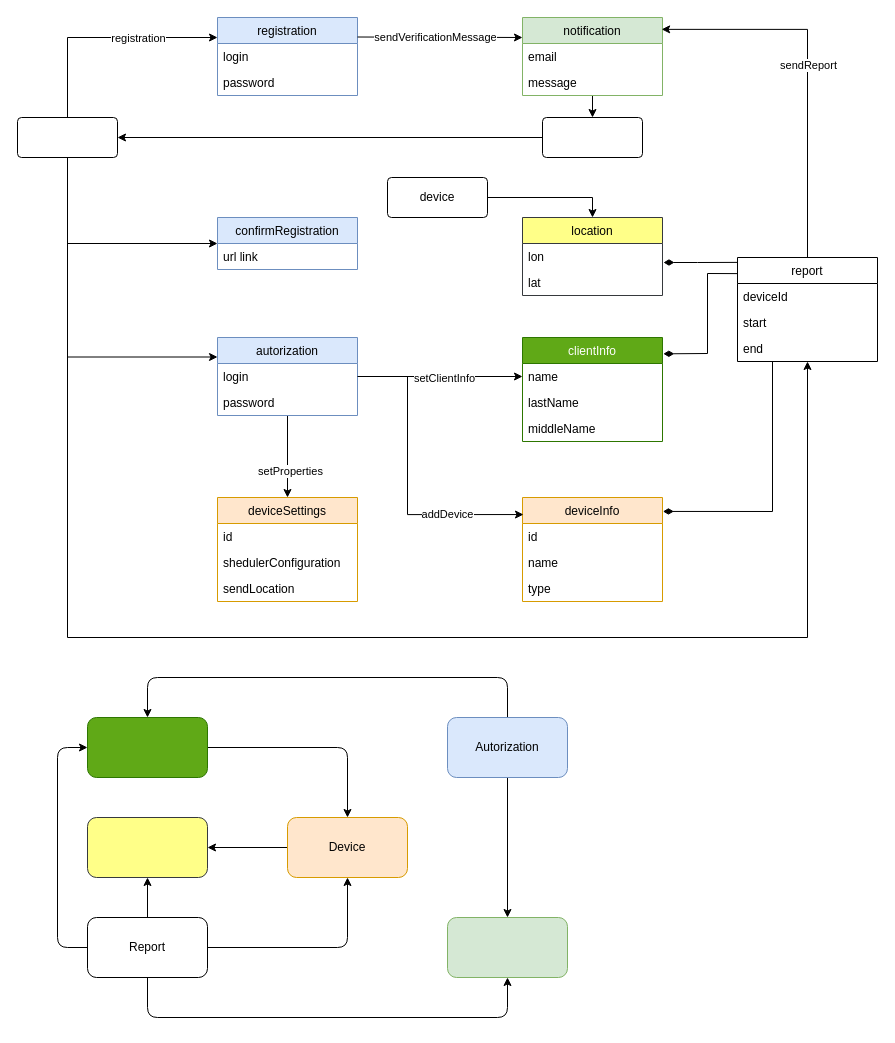
Some shapes in this 895 by 1043 pixel diagram are drawn without their labels. Here are the shapes that lost their labels. From the top down, the centre of each, then its label:
At (67,137): "consumer".
At (592,137): "mail".
At (147,747): "ClientService".
At (147,847): "Geolocation".
At (507,947): "Notify".
